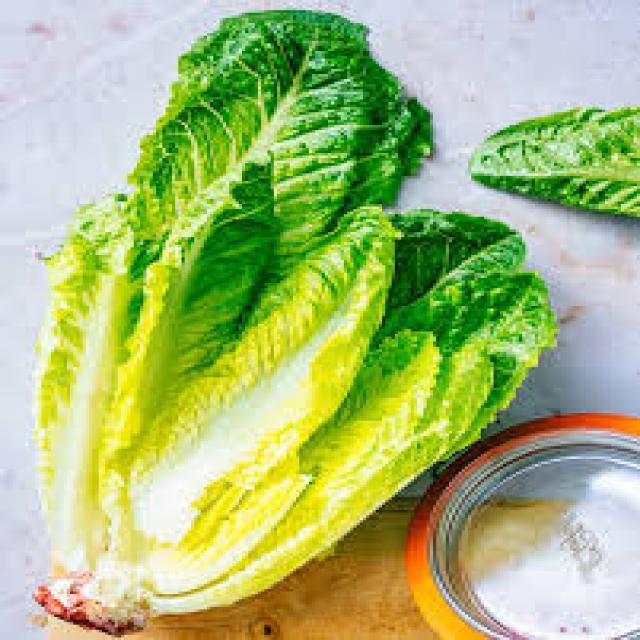Lettuce: (32, 11, 558, 630)
